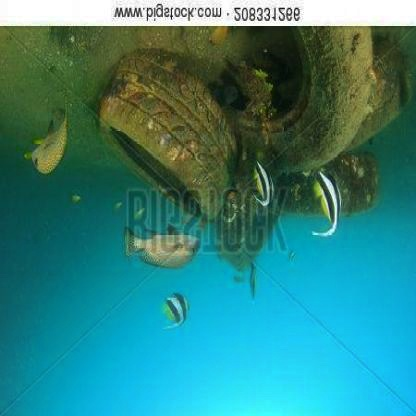tire: (192, 26, 376, 168), (96, 47, 229, 216), (269, 148, 392, 221), (343, 28, 416, 150), (214, 156, 272, 277)
